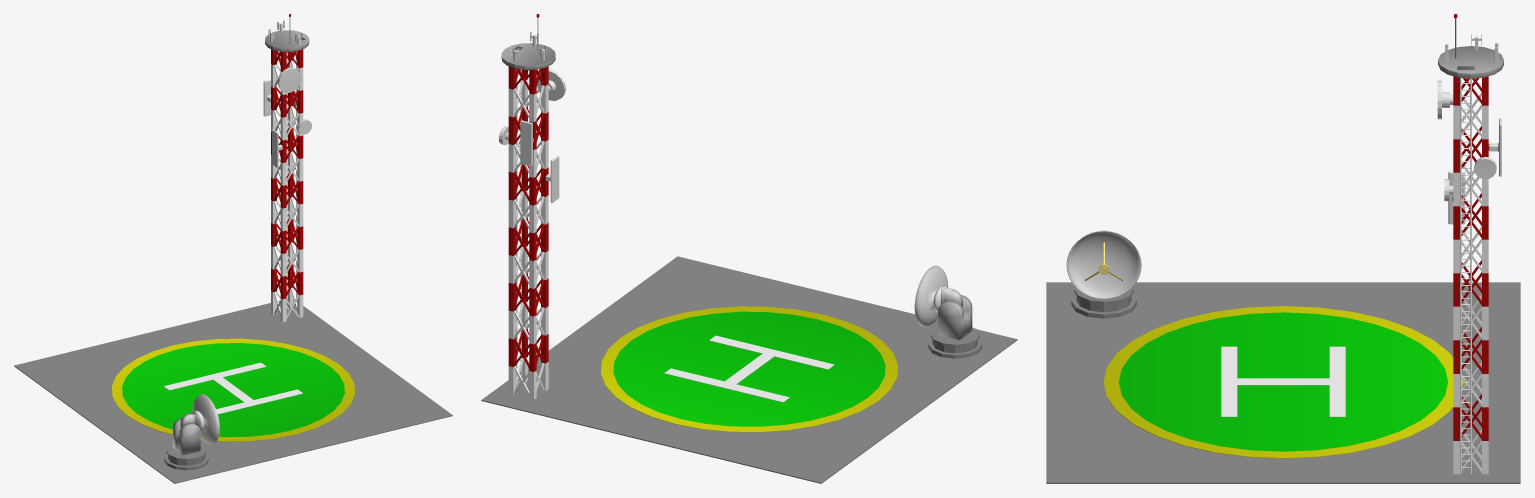
Rendered from TA-sm-activacionPEM.fbx.
3 renders of one model, left to right at view 1: azimuth 30°, elevation 25°; view 2: azimuth 150°, elevation 25°; view 3: azimuth 270°, elevation 25°, orthographic. The views are drawn at different scales.
Visible parts, largest first — view 1: activacionPEM; view 2: activacionPEM; view 3: activacionPEM.
Boxes of the visible parts, box(x1,y1,x2,y2) form: activacionPEM: box(14, 14, 452, 483); activacionPEM: box(481, 14, 1017, 483); activacionPEM: box(1046, 14, 1520, 483).
Bounding box in the file's own units: 21.53 × 22.63 × 21.53.
1 material, 1 textured.
